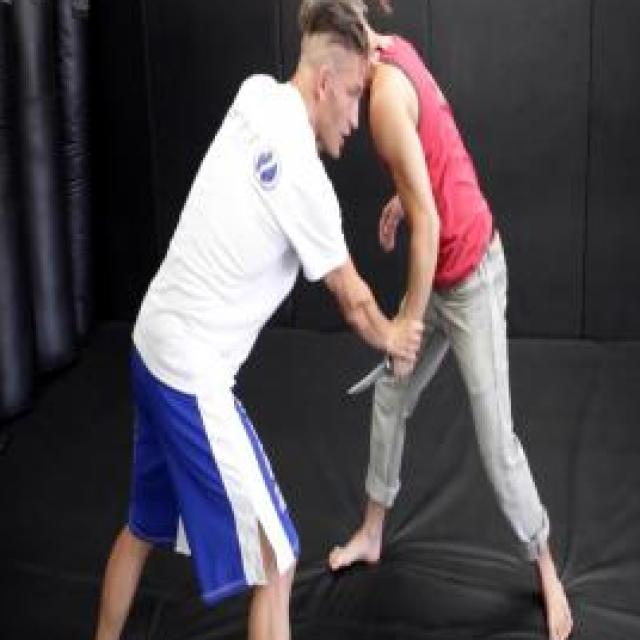knife: (342, 342, 422, 404)
